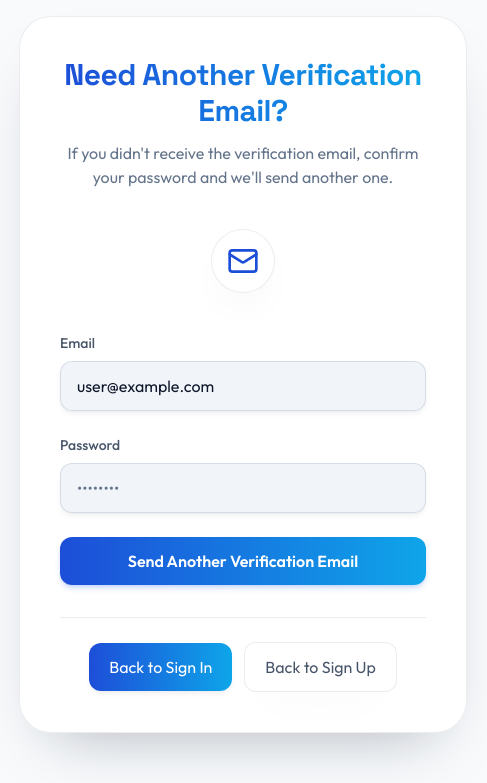
Resend Verification Page › requires both email and password before submitting
The width and height of the screenshot is (487, 783).
Click the button "Send Another Verification Email" at (243, 561), box [60,537,426,585]
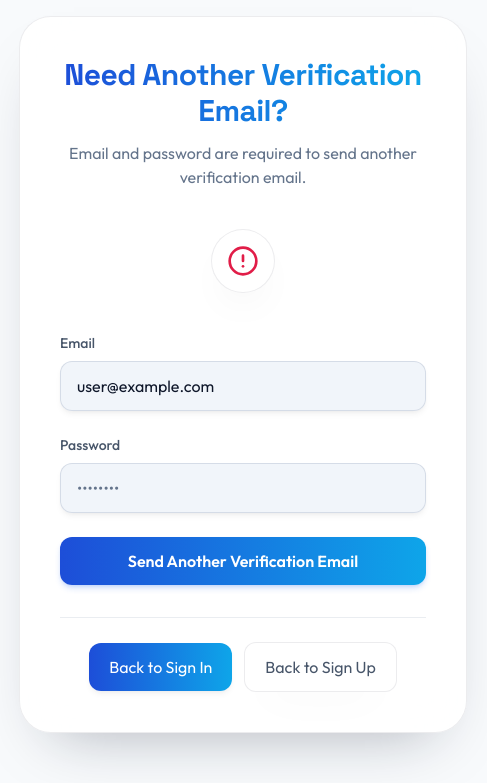
Check: the text "Email and password are required to send another verification email." is shown, box [60,141,426,189]
